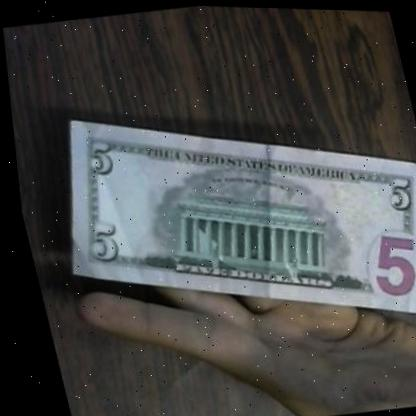five-back: (26, 73, 416, 360)
